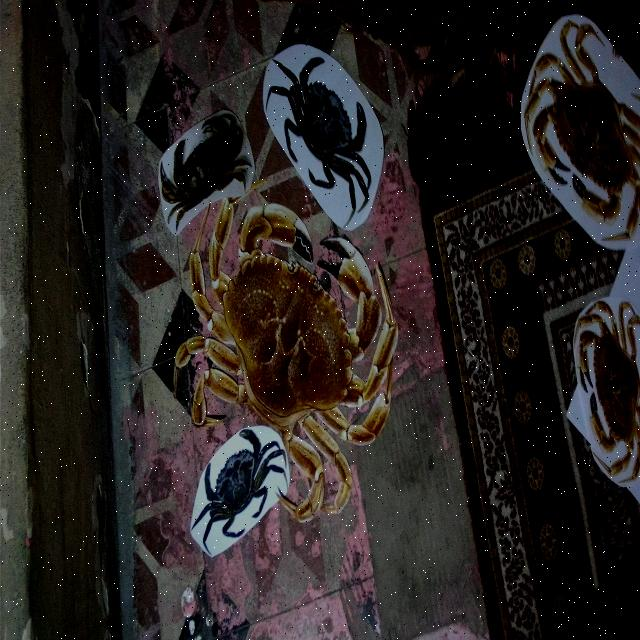European_Green_Crab: (256, 13, 393, 244), (180, 399, 293, 574)
